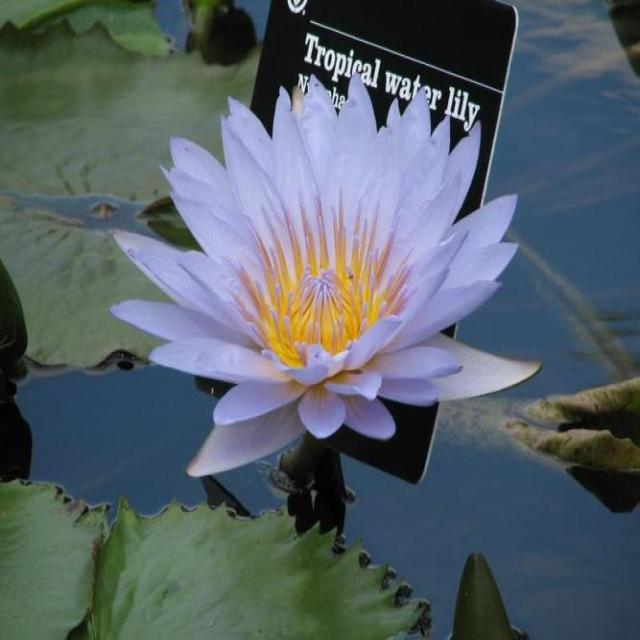water-lily: (115, 71, 504, 466)
